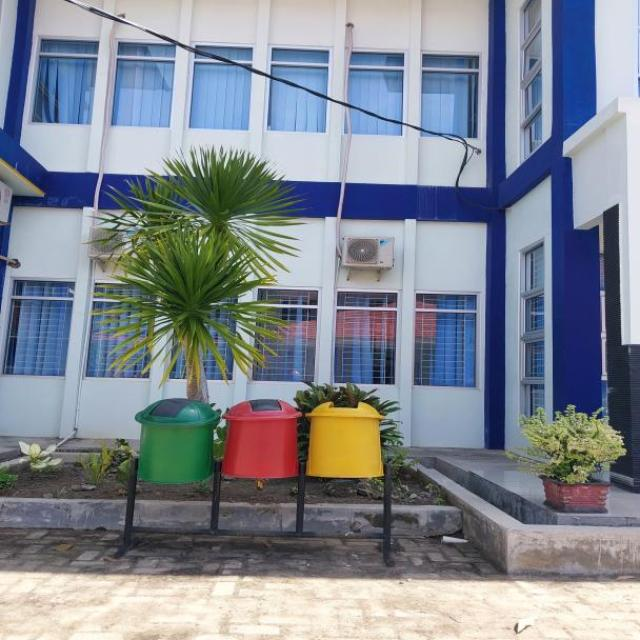dustbin ahead at: (130, 386, 392, 484)
plant ahead at: (518, 406, 632, 512)
